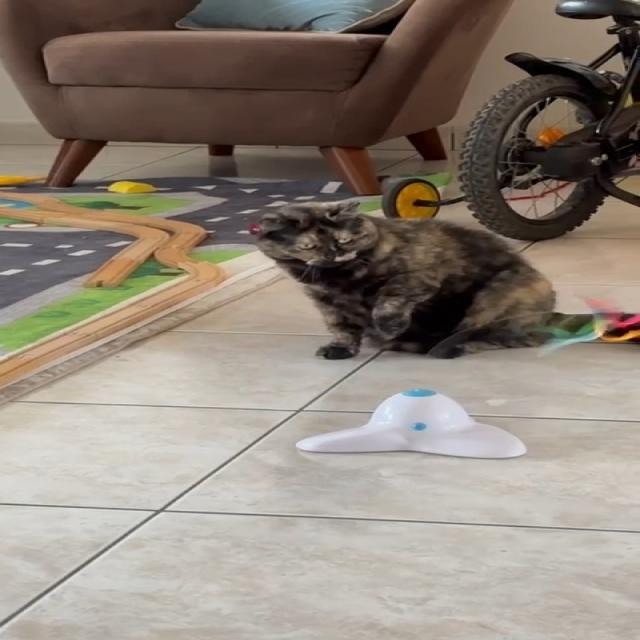authorized: (247, 198, 593, 360)
